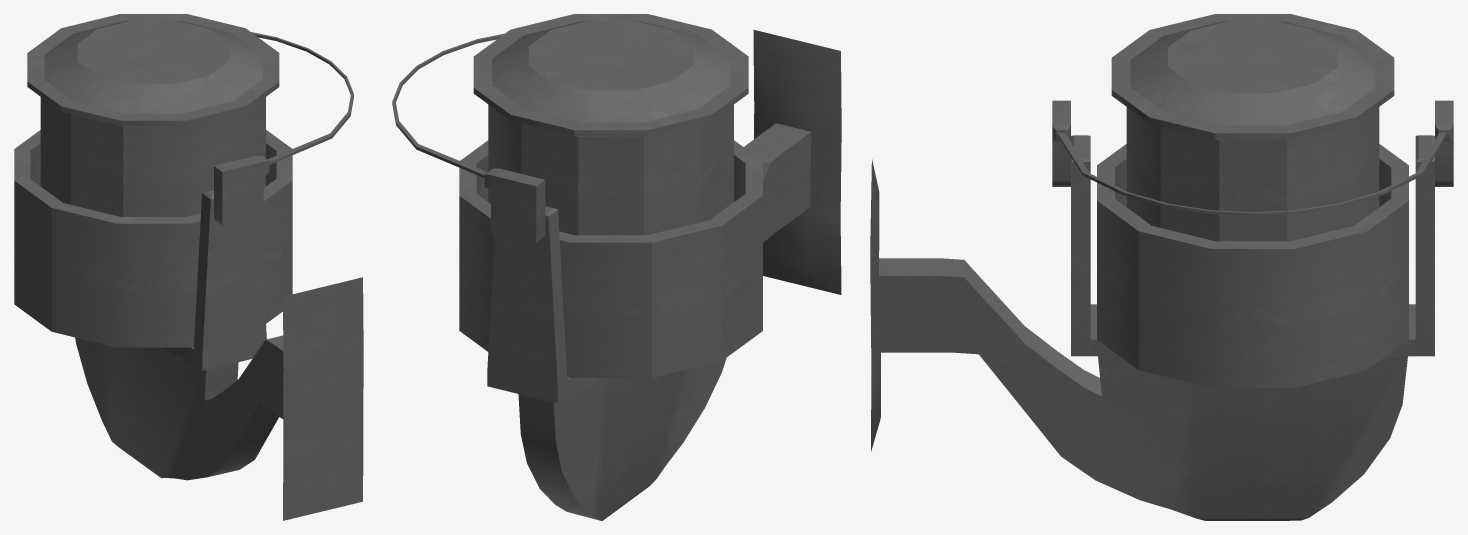
The model's file is FishingRod_Reel.glb.
The picture shows the model from 3 angles, left to right: view 1: azimuth 30°, elevation 25°; view 2: azimuth 150°, elevation 25°; view 3: azimuth 270°, elevation 25°; orthographic projection. The views are drawn at different scales.
Parts seen in each view (by area): view 1: FishingRod_Reel; view 2: FishingRod_Reel; view 3: FishingRod_Reel.
Boxes of the visible parts, x1,y1,x2,y2 form: FishingRod_Reel: (14, 14, 363, 520); FishingRod_Reel: (392, 14, 841, 520); FishingRod_Reel: (870, 14, 1453, 520).
Bounding box in the file's own units: 2.39 × 3.13 × 3.6.
Materials: 1 (1 with a texture image).
